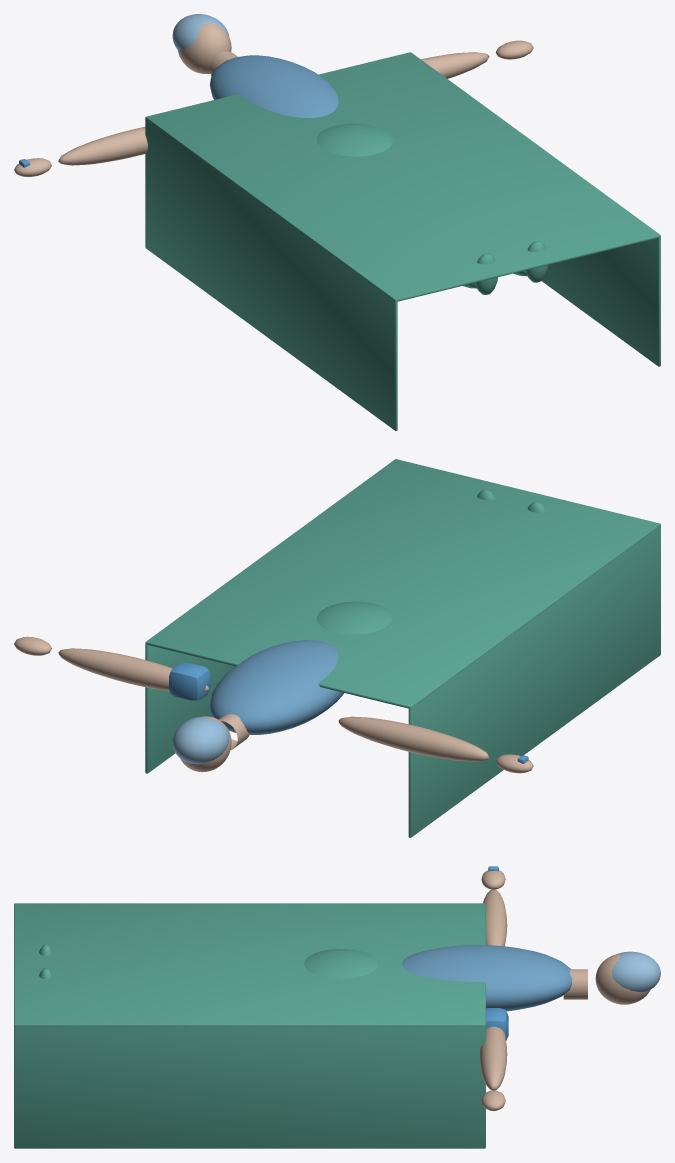
Rendered from PatientMannequin.fbx.
3 views of the same model, one above another, from view 1: azimuth 30°, elevation 25°; view 2: azimuth 150°, elevation 25°; view 3: azimuth 270°, elevation 25° (orthographic). The views are drawn at different scales.
Visible parts, largest first — view 1: PatientMannequin_Mesh; view 2: PatientMannequin_Mesh; view 3: PatientMannequin_Mesh.
Part boxes in pixels (left/top/right/bottom): PatientMannequin_Mesh: left=14, top=14, right=660, bottom=430; PatientMannequin_Mesh: left=14, top=459, right=660, bottom=837; PatientMannequin_Mesh: left=14, top=866, right=660, bottom=1148.
Bounding box in the file's own units: 1.85 × 0.485 × 2.12.
